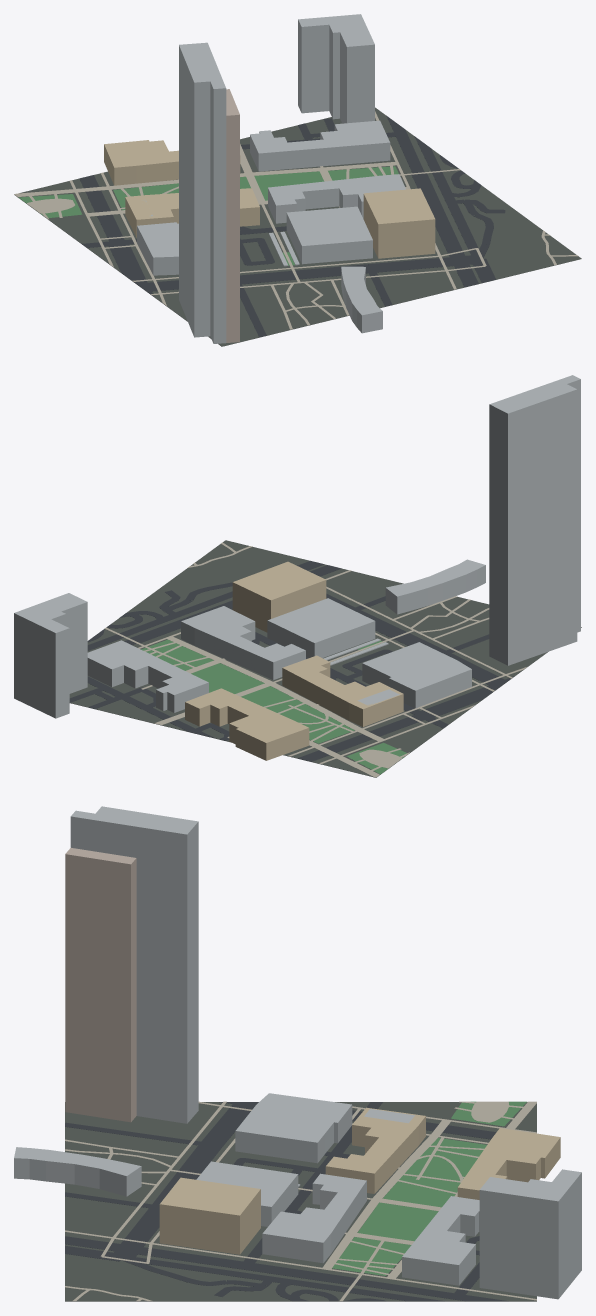
File: tile_005_006.glb
3 renders of one model, top to bottom at view 1: azimuth 30°, elevation 25°; view 2: azimuth 150°, elevation 25°; view 3: azimuth 270°, elevation 25°, orthographic. The views are drawn at different scales.
Parts seen in each view (by area): view 1: tile_005_006_buildings_neutral, tile_005_006_ground, tile_005_006_roads, tile_005_006_buildings_retail, tile_005_006_paths, tile_005_006_buildings_residential, tile_005_006_open_spaces; view 2: tile_005_006_buildings_neutral, tile_005_006_ground, tile_005_006_buildings_retail, tile_005_006_roads, tile_005_006_paths, tile_005_006_open_spaces; view 3: tile_005_006_buildings_neutral, tile_005_006_ground, tile_005_006_buildings_residential, tile_005_006_buildings_retail, tile_005_006_roads, tile_005_006_paths, tile_005_006_open_spaces.
Boxes of the visible parts, x1,y1,x2,y2 form: tile_005_006_buildings_neutral: (137, 14, 405, 343); tile_005_006_ground: (14, 107, 581, 346); tile_005_006_roads: (79, 115, 505, 337); tile_005_006_buildings_retail: (104, 140, 435, 258); tile_005_006_paths: (14, 111, 578, 329); tile_005_006_buildings_residential: (226, 89, 239, 342); tile_005_006_open_spaces: (18, 166, 398, 265); tile_005_006_buildings_neutral: (14, 375, 580, 718); tile_005_006_ground: (69, 540, 581, 777); tile_005_006_buildings_retail: (185, 561, 403, 760); tile_005_006_roads: (69, 561, 514, 761); tile_005_006_paths: (105, 542, 527, 777); tile_005_006_open_spaces: (141, 639, 406, 774); tile_005_006_buildings_neutral: (14, 806, 581, 1299); tile_005_006_ground: (65, 1102, 536, 1301); tile_005_006_buildings_residential: (65, 848, 136, 1122); tile_005_006_buildings_retail: (159, 1107, 560, 1254); tile_005_006_roads: (65, 1102, 508, 1301); tile_005_006_paths: (65, 1101, 536, 1301); tile_005_006_open_spaces: (332, 1101, 526, 1275).
Size of the model in its own units: 258 by 169 by 301.
